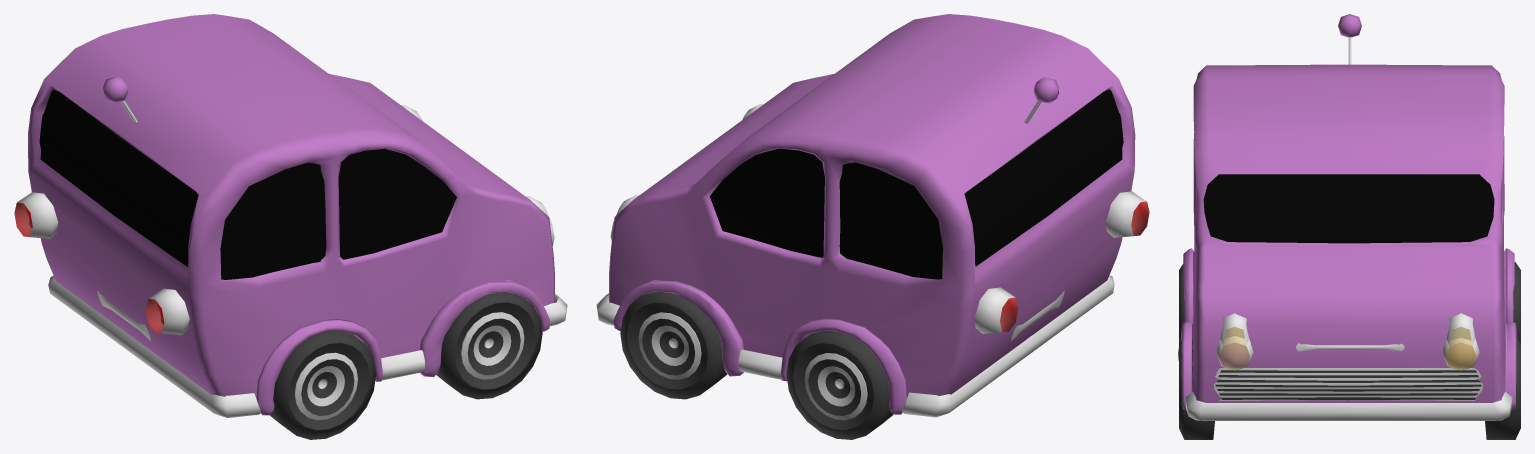
File: Car2.fbx
3 views of the same model, side by side, from view 1: azimuth 30°, elevation 25°; view 2: azimuth 150°, elevation 25°; view 3: azimuth 270°, elevation 25° (orthographic). The views are drawn at different scales.
Visible parts, largest first — view 1: polySurface56; view 2: polySurface56; view 3: polySurface56.
Part boxes in pixels (x1,y1,x2,y2): polySurface56: [14, 14, 567, 439]; polySurface56: [596, 14, 1149, 439]; polySurface56: [1178, 14, 1520, 439].
Size of the model in its own units: 5.47 by 4.22 by 4.46.
